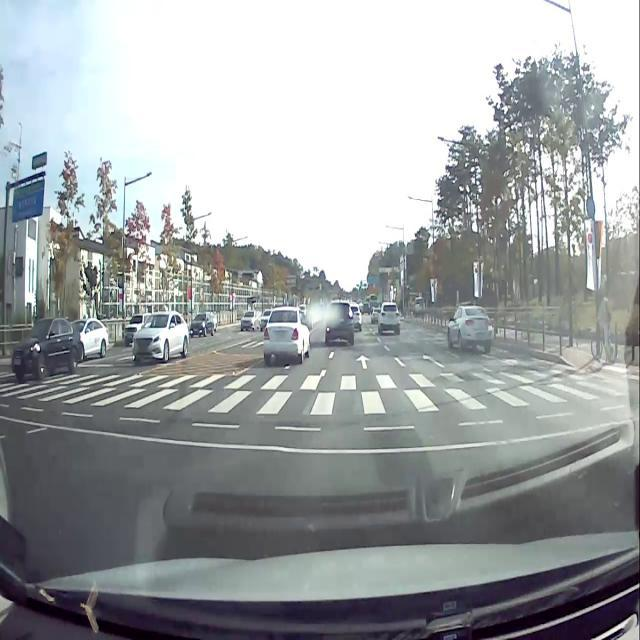crosswalk: (0, 367, 630, 415)
